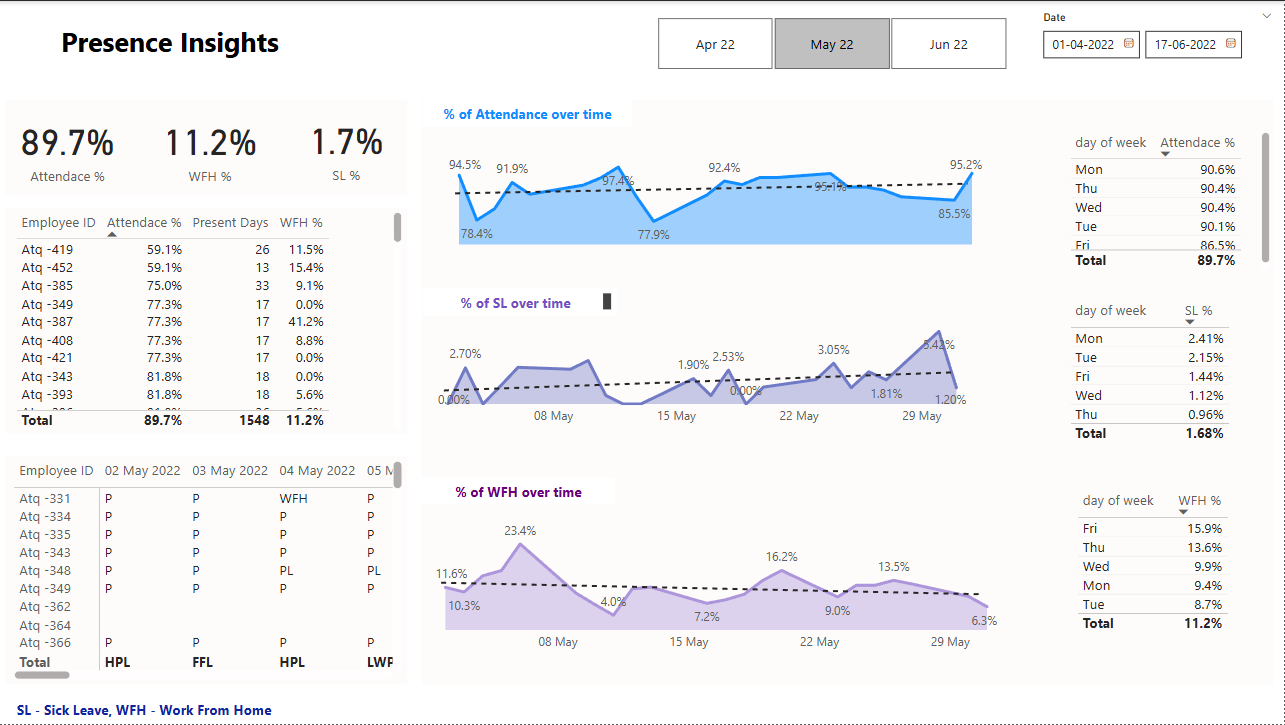

What the dashboard file says about the page in this screenshot:
{"tool":"powerbi","page":{"name":"Presence Insights","canvas":[1280,720],"ordinal":0},"visuals":[{"type":"textbox","box":[7.8,205.6,399.9,225.5],"z":0},{"type":"textbox","box":[7.8,453.3,399.8,227.6],"z":1000},{"type":"textbox","box":[422.3,97.9,848.1,582.3],"z":2000},{"type":"textbox","box":[7.8,98,399.9,95.4],"z":3000},{"type":"tableEx","fields":{"Values":["Final Data.Employee ID","Measures (2).Attendace %","Measures (2).Present Days","Measures (2).WFH %"]},"box":[12.6,205.2,394.9,225.7],"z":4000},{"type":"slicer","fields":{"Values":["Final Data.Date"]},"box":[1027.3,5.2,252.7,46.3],"z":5000},{"type":"slicer","fields":{"Values":["Final Data.MMM YY"]},"box":[630.4,10.5,379.5,35.8],"z":6000},{"type":"areaChart","fields":{"Category":["Final Data.MMM YY","Final Data.Date"],"Y":["Measures (2).WFH %"]},"box":[420.7,502.3,589,153.5],"z":7000},{"type":"areaChart","fields":{"Category":["Final Data.WeekNo","Final Data.Date"],"Y":["Measures (2).Attendace %"]},"box":[444.1,144.9,540.4,103.2],"z":8000},{"type":"card","fields":{"Values":["Measures (2).Attendace %"]},"box":[7.8,98,124,96.3],"z":9000},{"type":"card","fields":{"Values":["Measures (2).WFH %"]},"box":[141.4,98,138.8,96.3],"z":10000},{"type":"areaChart","fields":{"Category":["Final Data.MMM YY","Final Data.Date"],"Y":["Measures (2).SL %"]},"box":[422.5,307.1,556,124],"z":11000},{"type":"card","fields":{"Values":["Measures (2).SL %"]},"box":[286.3,97.2,121.4,96.3],"z":13000},{"type":"textbox","box":[11.2,0,312.2,74.6],"z":14000},{"type":"textbox","box":[422.9,98.3,207.7,27.4],"z":15000},{"type":"textbox","box":[422.5,286.3,192.6,26.9],"z":16000},{"type":"textbox","box":[422.1,473.7,192.6,27.2],"z":17000},{"type":"pivotTable","fields":{"Rows":["Final Data.Employee ID"],"Columns":["Final Data.Date"],"Values":["Min(Final Data.Value)"]},"box":[11.7,453.3,395.9,227.6],"z":18000},{"type":"textbox","box":[13.6,691.6,289.8,28.2],"z":19000},{"type":"tableEx","fields":{"Values":["Final Data.day of week","Measures (2).Attendace %"]},"box":[1060.9,125.8,209.9,145.7],"z":20000},{"type":"tableEx","fields":{"Values":["Final Data.day of week","Measures (2).SL %"]},"box":[1060.9,294.1,191.7,167.4],"z":21000},{"type":"tableEx","fields":{"Values":["Final Data.day of week","Measures (2).WFH %"]},"box":[1068.7,483.2,170,167.4],"z":22000}]}

Visuals, with their boxes in screenshot pixels (x1, y1, x2, y2), scaled from the page's 1280x720 canvas onto the 1285x725 screenshot:
textbox: detection(8, 207, 409, 434)
textbox: detection(8, 456, 409, 686)
textbox: detection(424, 99, 1275, 685)
textbox: detection(8, 99, 409, 195)
tableEx - Final Data.Employee ID x Measures (2).Attendace %: detection(13, 207, 409, 434)
slicer - Final Data.Date: detection(1031, 5, 1284, 52)
slicer - Final Data.MMM YY: detection(633, 11, 1014, 47)
areaChart - Final Data.MMM YY x Final Data.Date: detection(422, 506, 1014, 660)
areaChart - Final Data.WeekNo x Final Data.Date: detection(446, 146, 988, 250)
card - Measures (2).Attendace %: detection(8, 99, 132, 196)
card - Measures (2).WFH %: detection(142, 99, 281, 196)
areaChart - Final Data.MMM YY x Final Data.Date: detection(424, 309, 982, 434)
card - Measures (2).SL %: detection(287, 98, 409, 195)
textbox: detection(11, 0, 325, 75)
textbox: detection(425, 99, 633, 127)
textbox: detection(424, 288, 618, 315)
textbox: detection(424, 477, 617, 504)
pivotTable - Final Data.Employee ID x Final Data.Date: detection(12, 456, 409, 686)
textbox: detection(14, 696, 305, 724)
tableEx - Final Data.day of week x Measures (2).Attendace %: detection(1065, 127, 1276, 273)
tableEx - Final Data.day of week x Measures (2).SL %: detection(1065, 296, 1257, 465)
tableEx - Final Data.day of week x Measures (2).WFH %: detection(1073, 487, 1244, 655)
